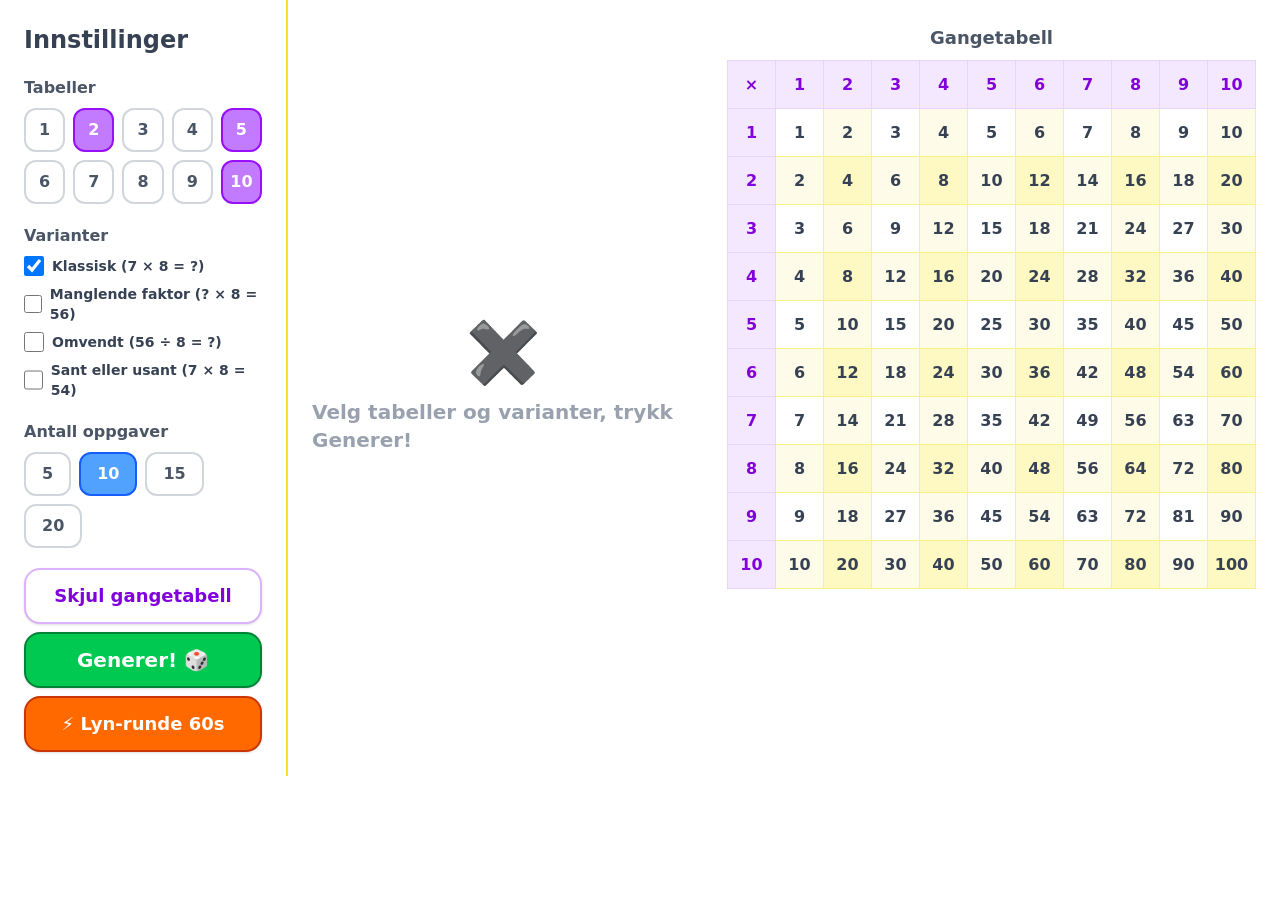
GangeTab › viser gangetabellen og kan skjule og vise den igjen
Check: the table named "Gangetabell" is shown, box [727,60,1256,589]
Check: the text "56" is shown 2 times, box [1112,396,1160,444]; [1064,444,1112,492]
Step 1. Click the button "Skjul gangetabell" → (143, 596), box [24,568,262,624]
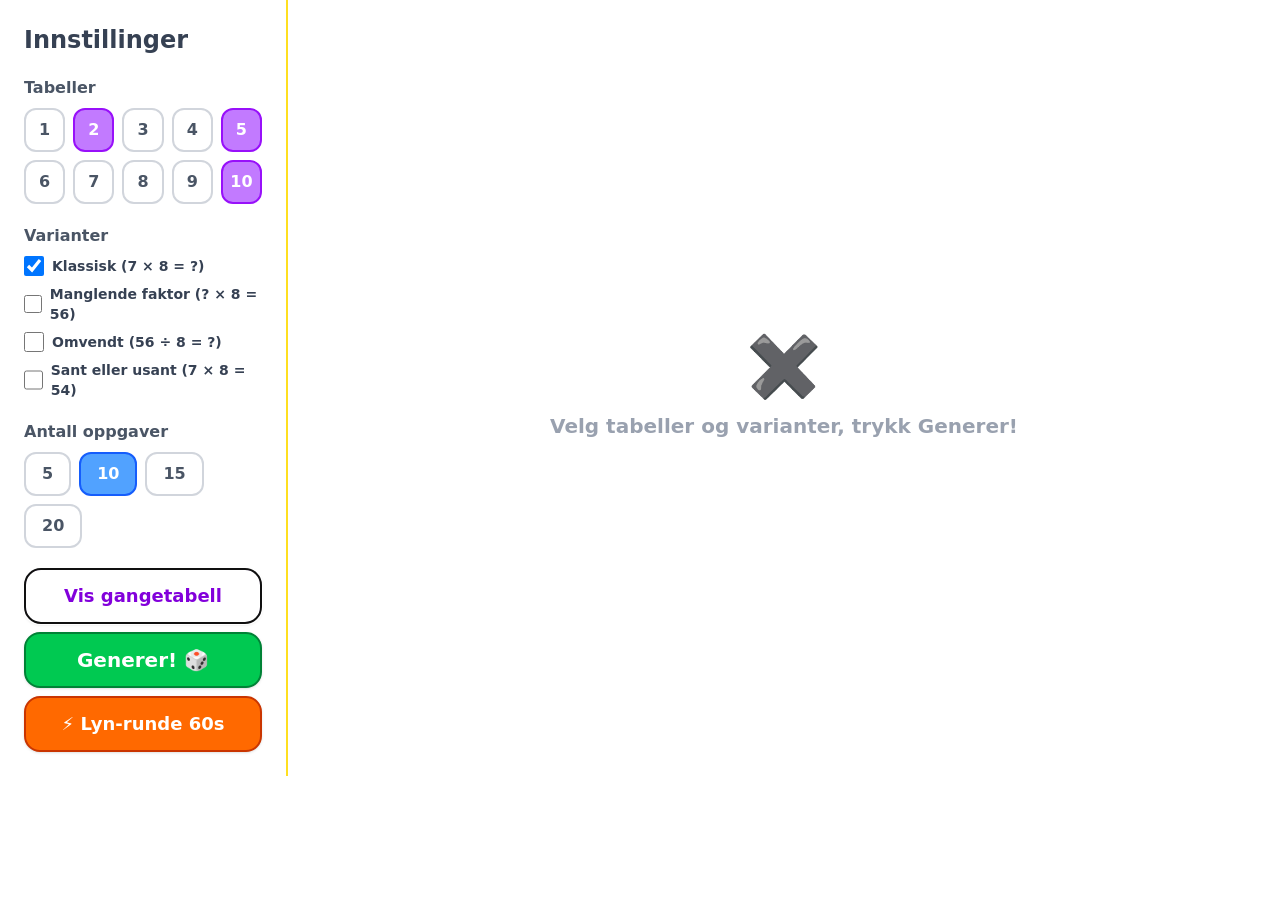
Step 2. Click the button "Vis gangetabell" → (143, 596), box [24,568,262,624]
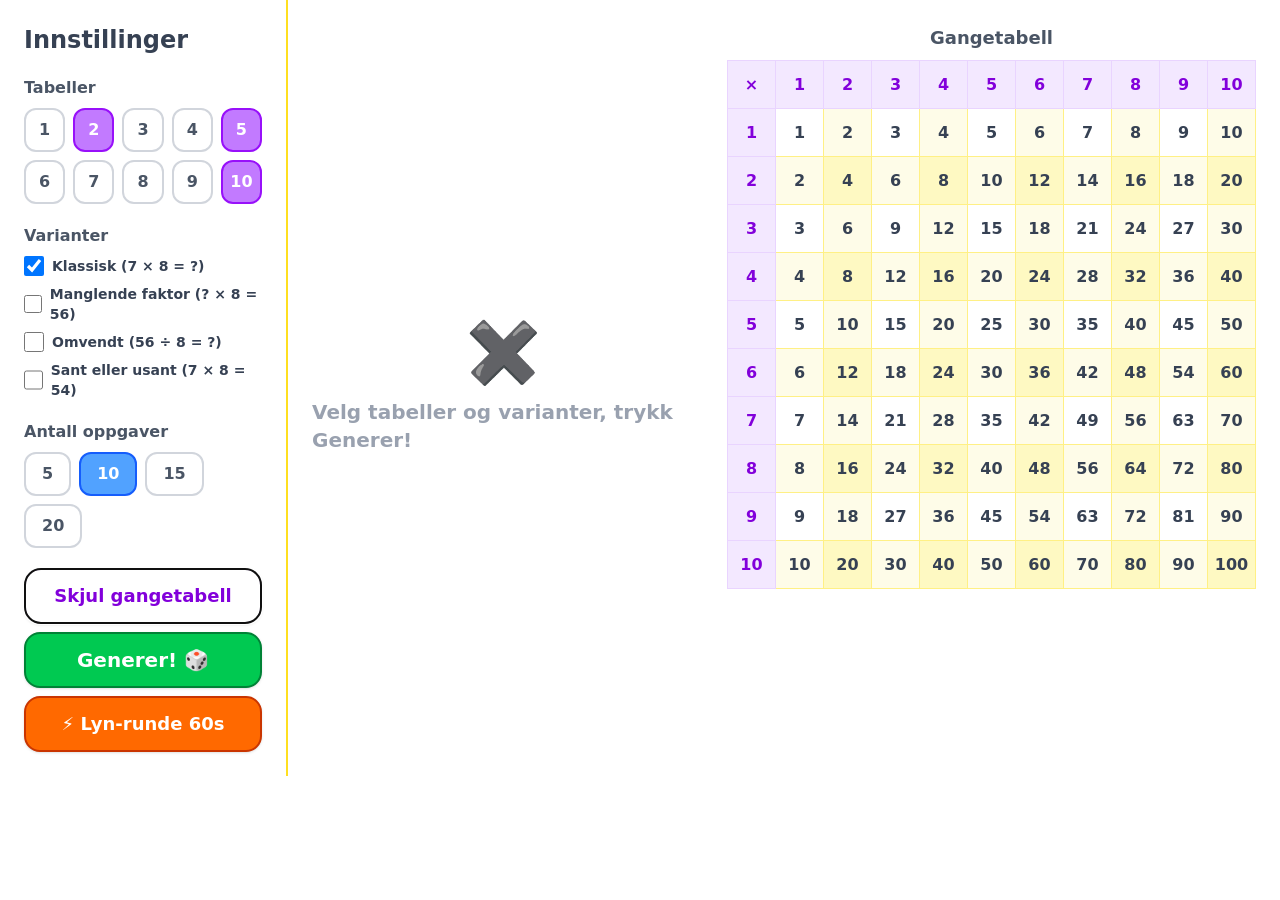
Check: the table named "Gangetabell" is shown, box [727,60,1256,589]
Check: the text "56" is shown 2 times, box [1112,396,1160,444]; [1064,444,1112,492]
